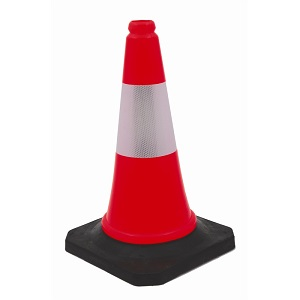traffic cone: (65, 20, 235, 286)
